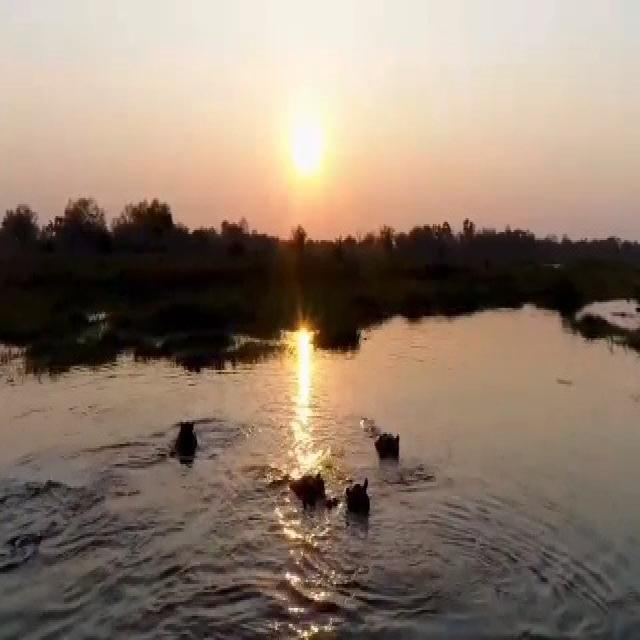Hippopotamus: (284, 453, 376, 543), (169, 412, 205, 473), (376, 421, 403, 474)
